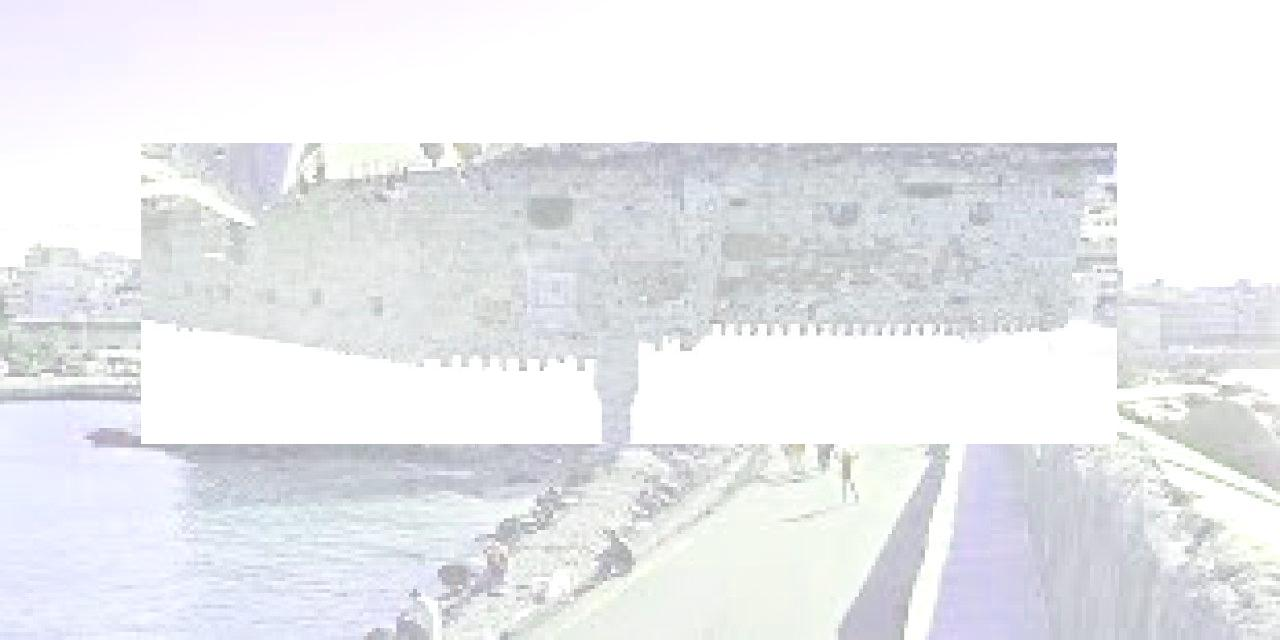Kules: (142, 144, 1118, 445)
